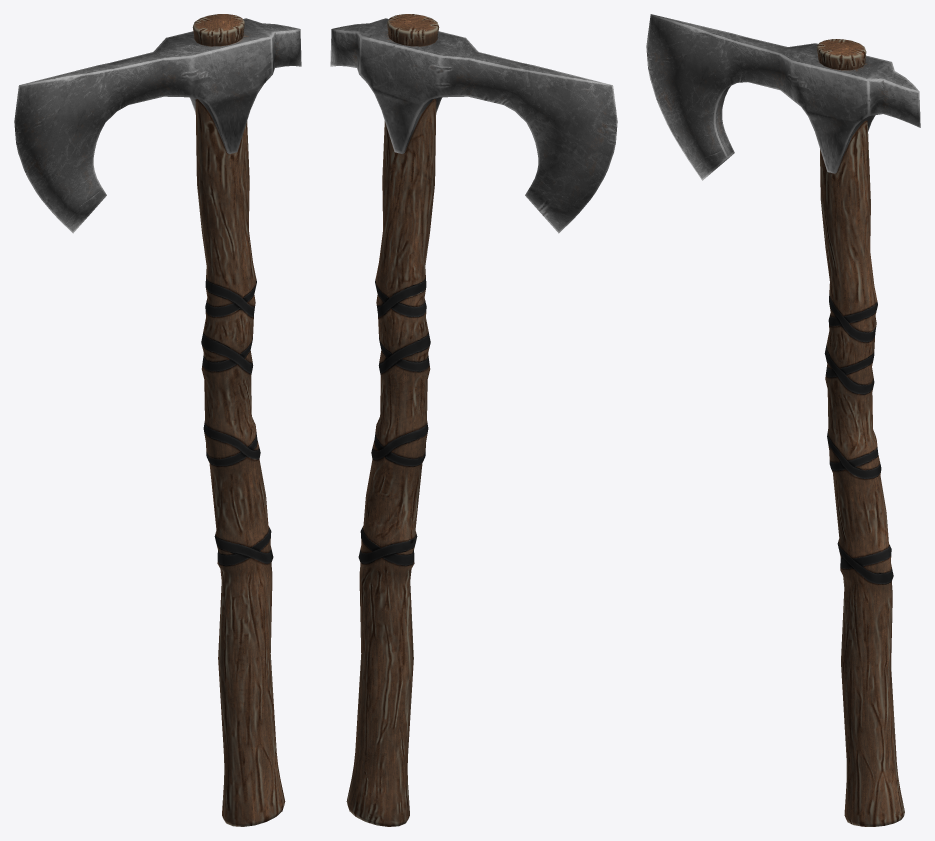
The model's file is SM_Axe_03.fbx.
3 renders of one model, left to right at view 1: azimuth 30°, elevation 25°; view 2: azimuth 150°, elevation 25°; view 3: azimuth 330°, elevation 25°, orthographic. The views are drawn at different scales.
Parts seen in each view (by area): view 1: SM_Axe_03_LOD0; view 2: SM_Axe_03_LOD0; view 3: SM_Axe_03_LOD0.
Boxes of the visible parts, x1=… form: SM_Axe_03_LOD0: x1=14, y1=14, x2=301, y2=826; SM_Axe_03_LOD0: x1=330, y1=14, x2=617, y2=826; SM_Axe_03_LOD0: x1=646, y1=14, x2=920, y2=826.
Bounding box in the file's own units: 30.92 × 5.05 × 82.65.
1 material, 1 textured.
